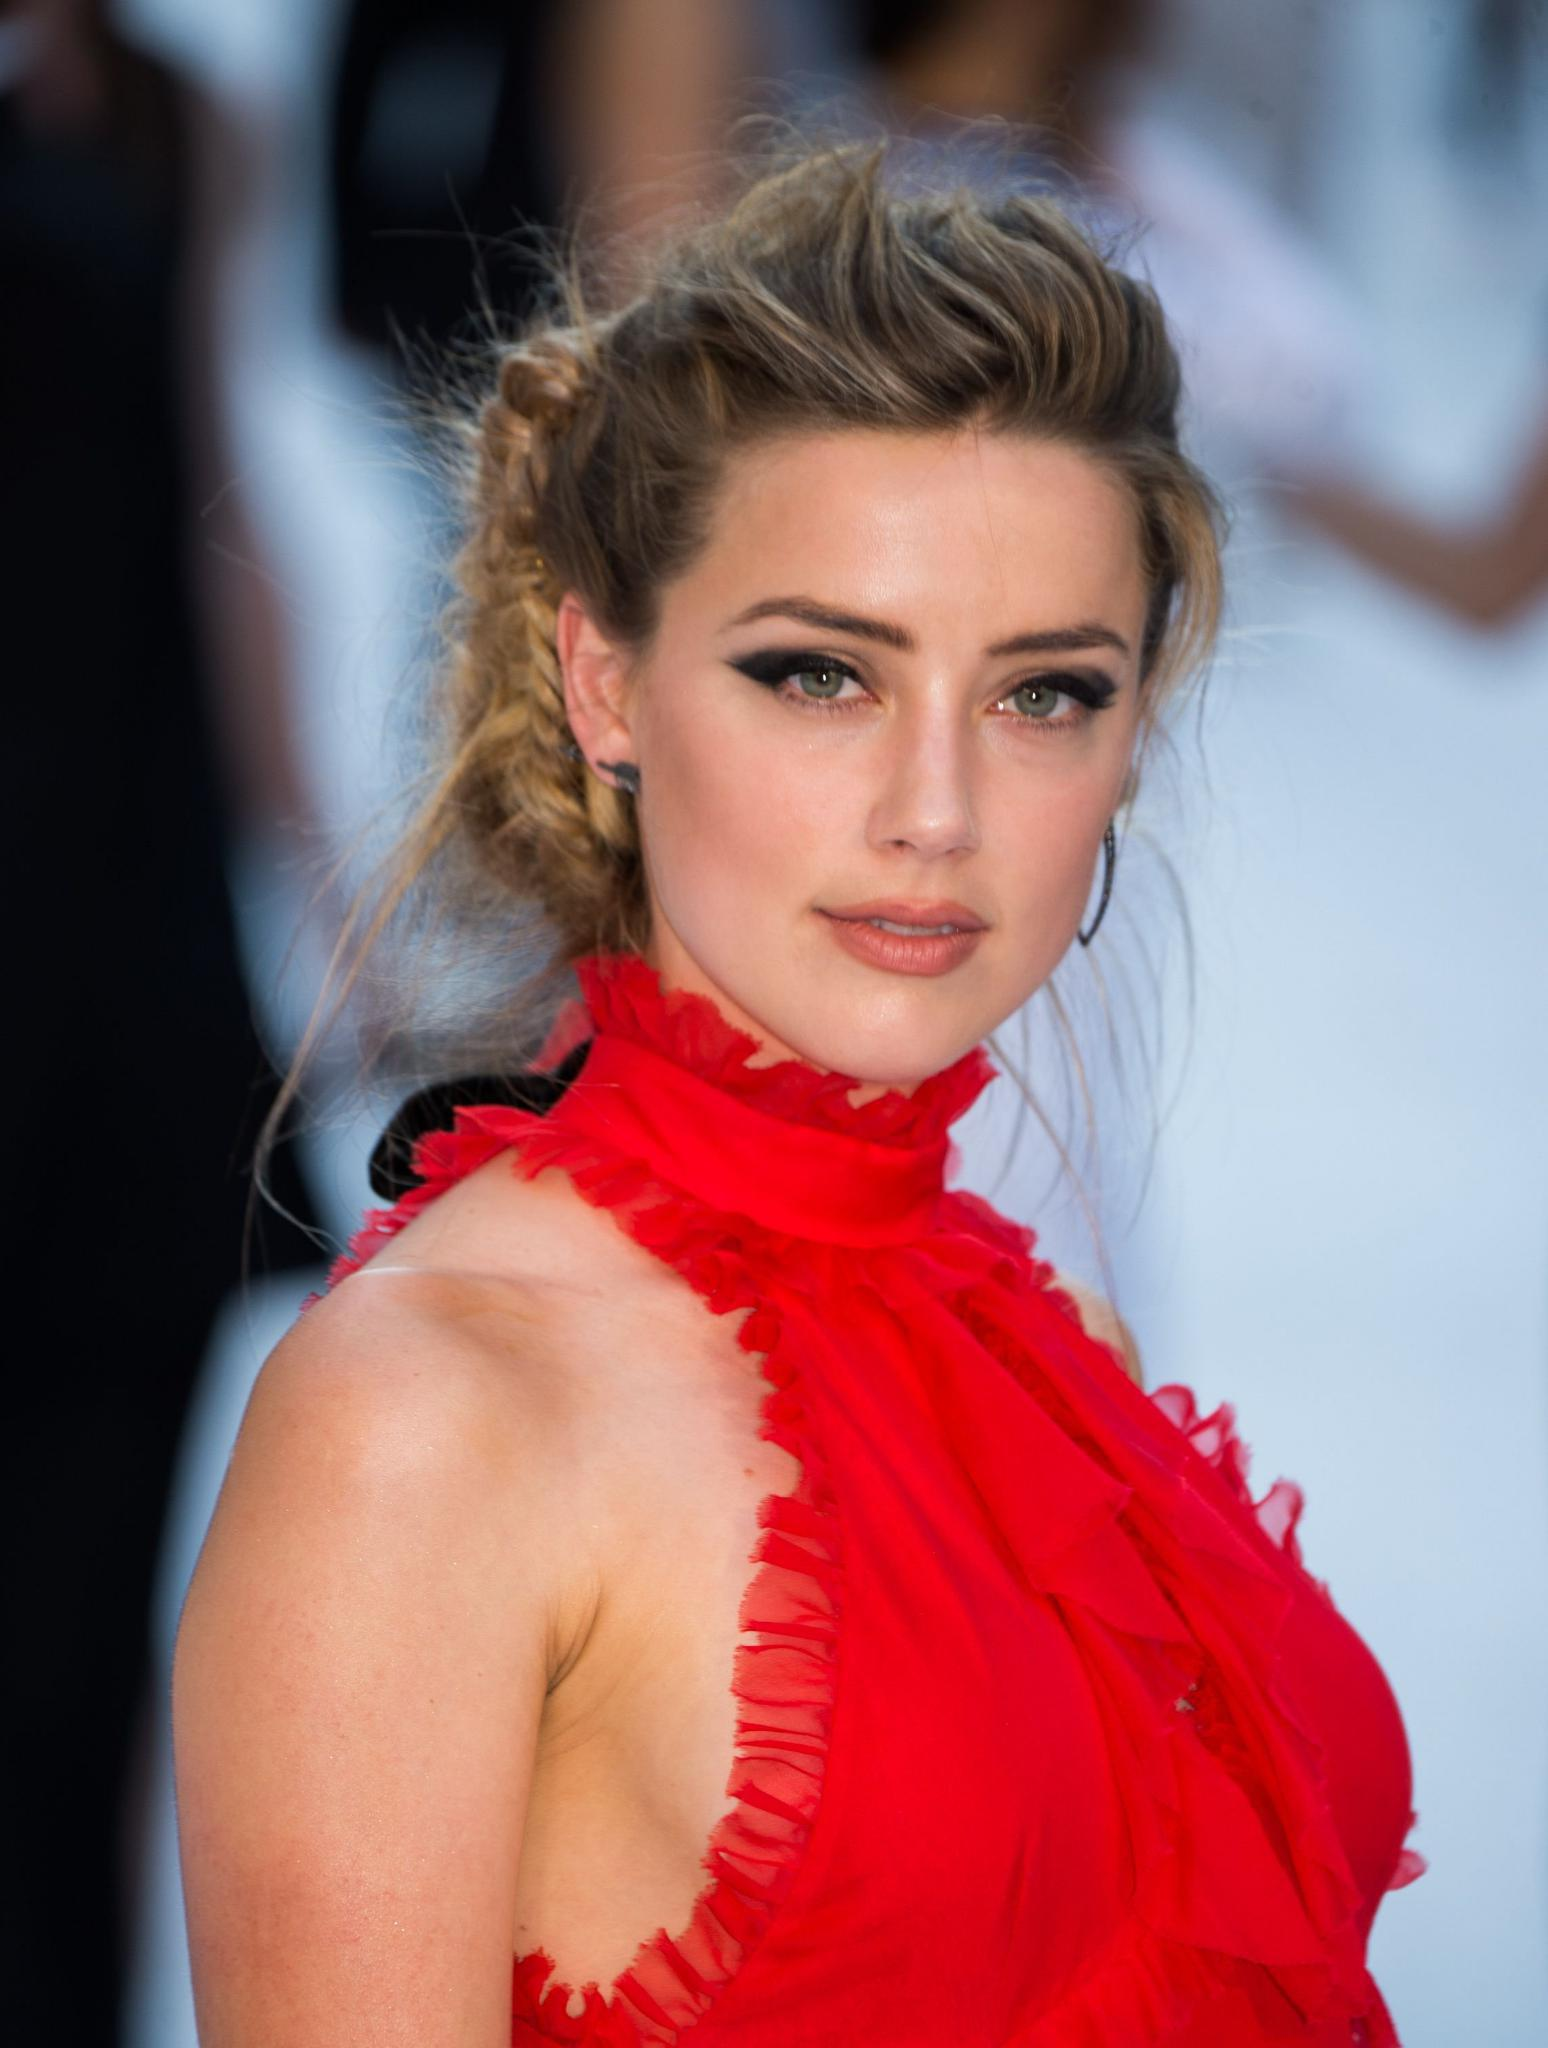Sober: (676, 481, 1133, 1026)
